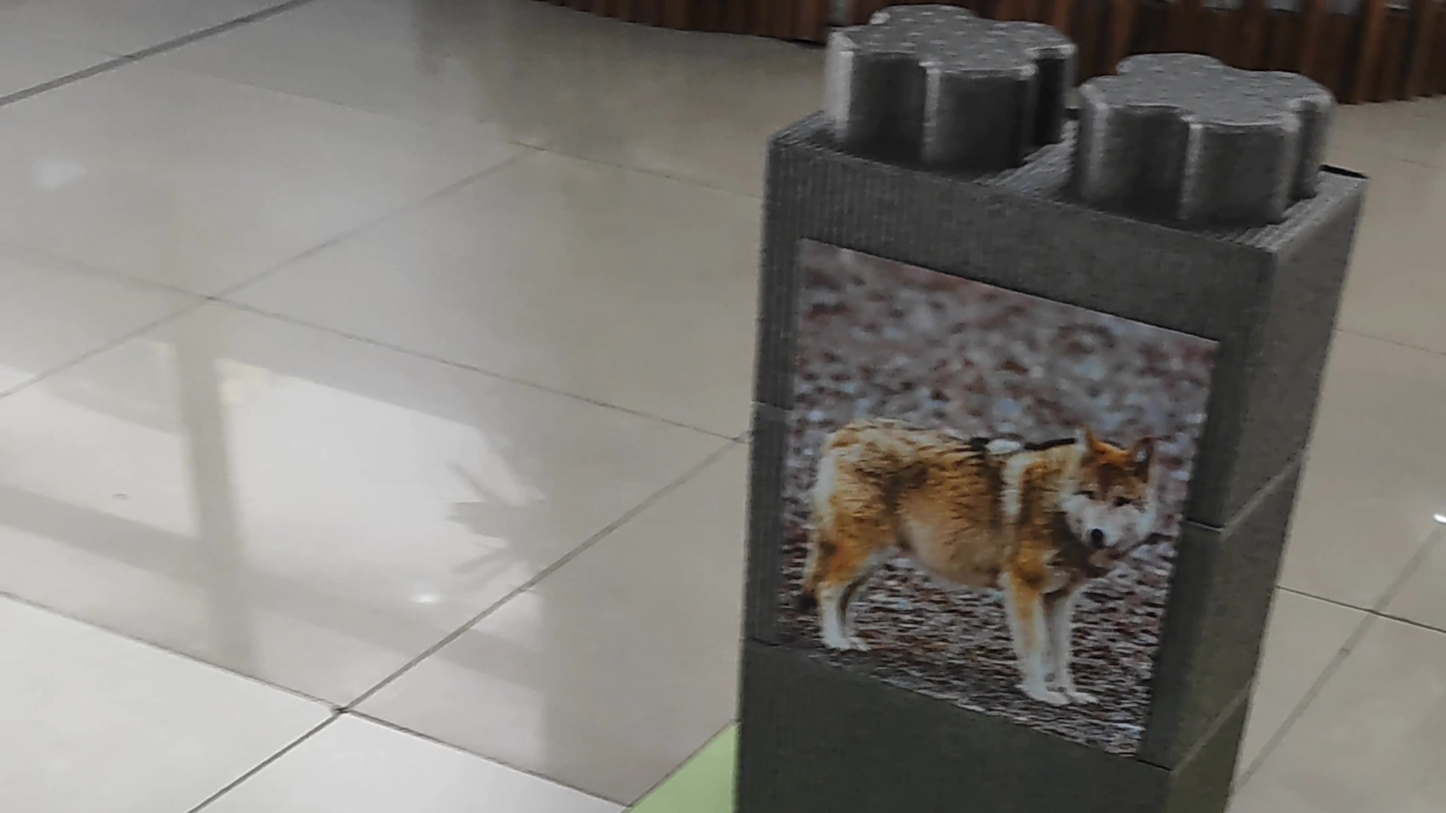wolf: (787, 301, 1202, 700)
